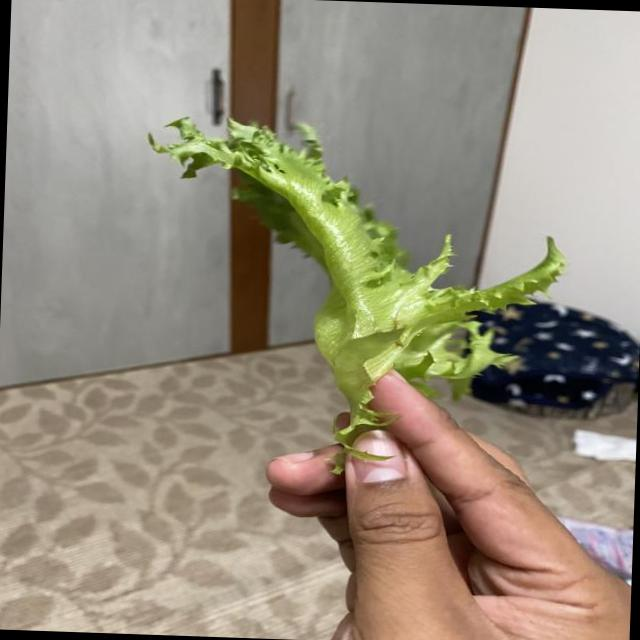Lettuce-Ready-to-Harvest: (149, 118, 564, 452)
